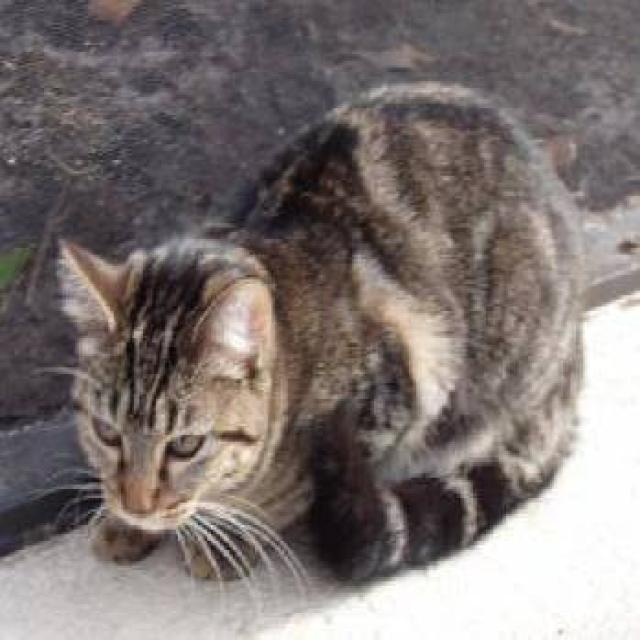cat: (44, 77, 590, 588)
